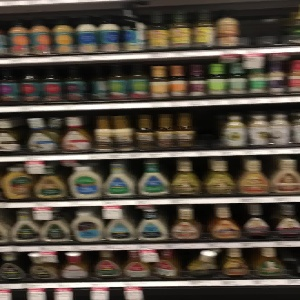void: (239, 1, 290, 48), (193, 103, 221, 152)
